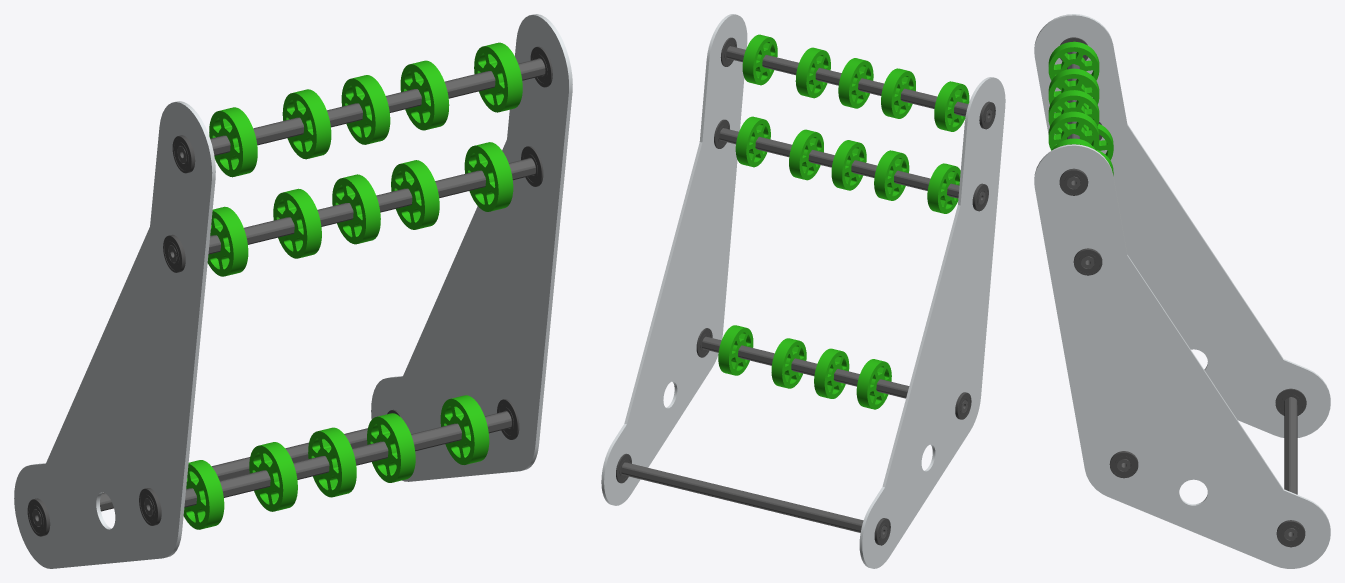
Rendered from Robot_3407 Jimmeh V2_1.glb.
The picture shows the model from 3 angles, left to right: view 1: azimuth 30°, elevation 25°; view 2: azimuth 150°, elevation 25°; view 3: azimuth 270°, elevation 25°; orthographic projection. The views are drawn at different scales.
Visible parts, largest first — view 1: Part 2 (×2), TTB-0032_2INCH_SQUISH_WHEEL (×15), 04_INTAKE_ROLLER_SHAFT (×4); view 2: Part 2 (×2), TTB-0032_2INCH_SQUISH_WHEEL (×14), 04_INTAKE_ROLLER_SHAFT (×4); view 3: Part 2 (×2), TTB-0032_2INCH_SQUISH_WHEEL (×5), 13_75MM__1_2_THUNDERHEX_ID__X_1 (×5), 04_INTAKE_ROLLER_SHAFT.
Part boxes in pixels (x1,y1,x2,y2): Part 2 (×2): (14, 14, 572, 568); TTB-0032_2INCH_SQUISH_WHEEL (×15): (183, 42, 522, 529); 04_INTAKE_ROLLER_SHAFT (×4): (32, 58, 545, 526); Part 2 (×2): (601, 14, 1005, 568); TTB-0032_2INCH_SQUISH_WHEEL (×14): (718, 34, 969, 409); 04_INTAKE_ROLLER_SHAFT (×4): (621, 46, 992, 538); Part 2 (×2): (1034, 14, 1330, 568); TTB-0032_2INCH_SQUISH_WHEEL (×5): (1048, 41, 1113, 159); 13_75MM__1_2_THUNDERHEX_ID__X_1 (×5): (1059, 168, 1306, 547); 04_INTAKE_ROLLER_SHAFT: (1284, 397, 1297, 540).
Bounding box in the file's own units: 0.3176 × 0.4663 × 0.2962.
